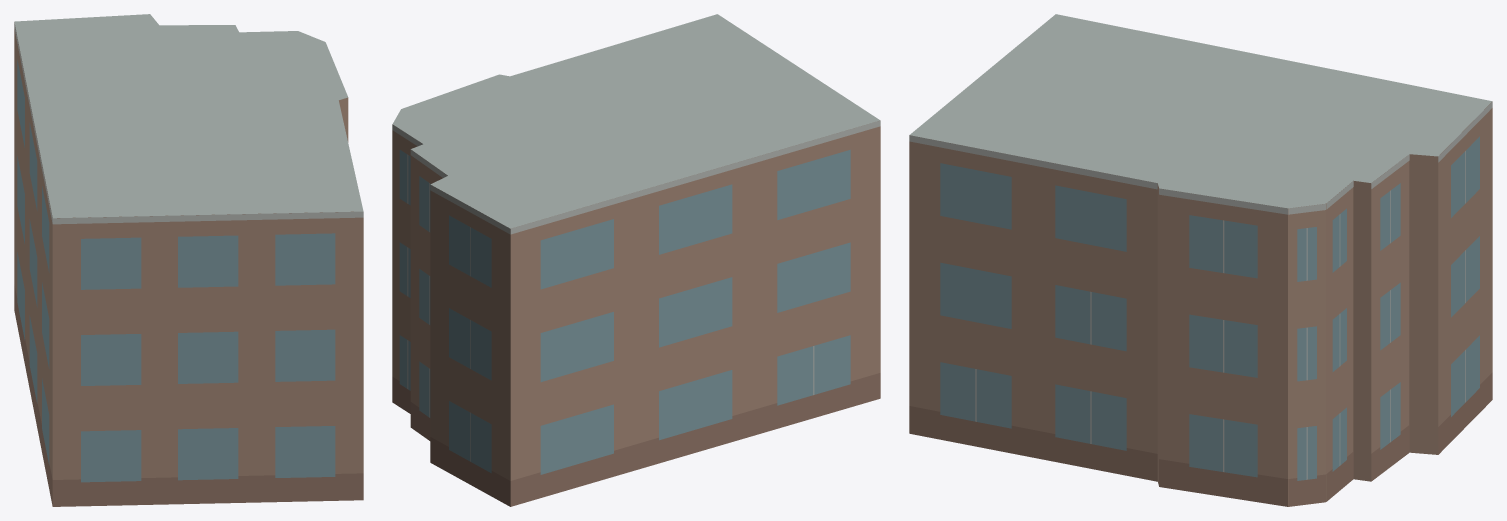
Rendered from survey-upis-33000893.glb.
3 renders of one model, left to right at view 1: azimuth 30°, elevation 25°; view 2: azimuth 150°, elevation 25°; view 3: azimuth 270°, elevation 25°, orthographic. The views are drawn at different scales.
Visible parts, largest first — view 1: survey-upis-33000893.tmp; view 2: survey-upis-33000893.tmp; view 3: survey-upis-33000893.tmp.
Boxes of the visible parts, x1,y1,x2,y2 form: survey-upis-33000893.tmp: (14, 14, 363, 506); survey-upis-33000893.tmp: (392, 14, 880, 506); survey-upis-33000893.tmp: (909, 14, 1492, 506).
Bounding box in the file's own units: 16.07 × 11.5 × 20.37.
